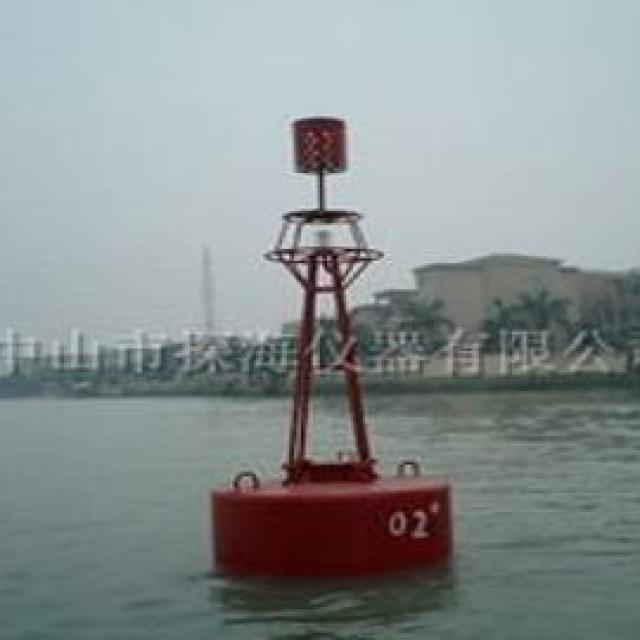buoy: (194, 107, 460, 570)
